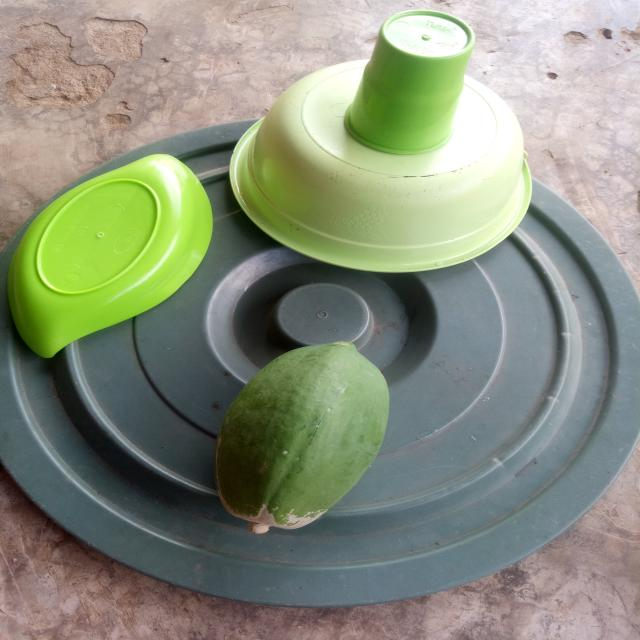Pepaya unrippen: (200, 336, 396, 544)
